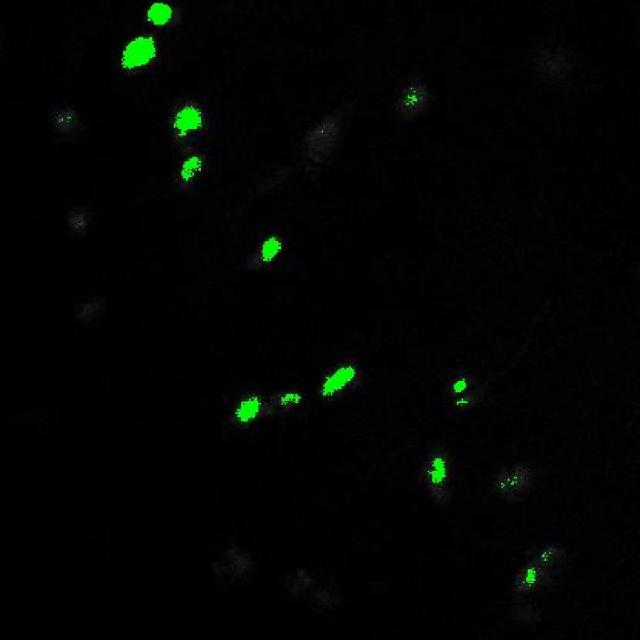Cell: (121, 36, 155, 68), (323, 366, 354, 398), (239, 398, 263, 425), (176, 107, 199, 135), (263, 237, 282, 264), (182, 156, 202, 176), (430, 459, 446, 481)
